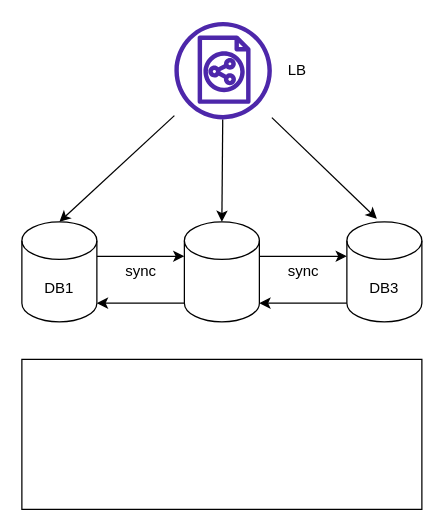
The diagram is 444 pixels wide and 531 high, and some of its shapes have lost their labels. Each missing label, with the box of its shape:
DB2: (183, 221, 259, 322)
Postgres DB 3 db in sync Scalable configuration on docker: (21, 358, 422, 509)
